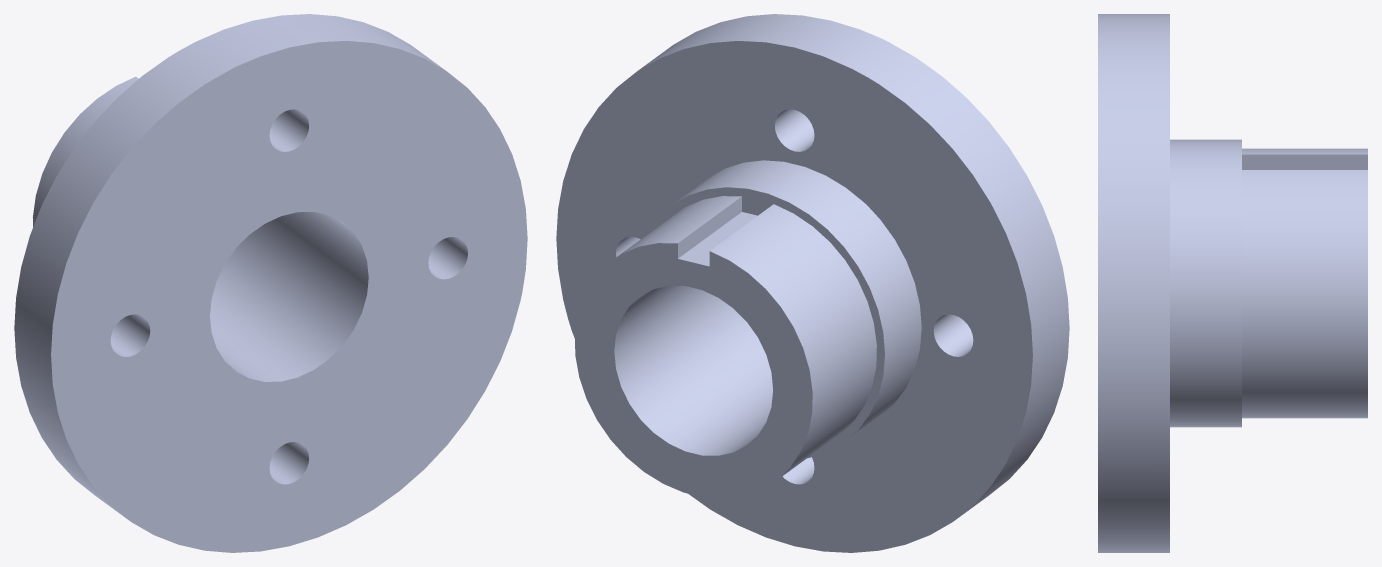
File: hub-model.glb
3 views of the same model, side by side, from view 1: azimuth 30°, elevation 25°; view 2: azimuth 150°, elevation 25°; view 3: azimuth 270°, elevation 25° (orthographic).
Visible parts, largest first — view 1: Hub NRE RevD; view 2: Hub NRE RevD; view 3: Hub NRE RevD.
Part boxes in pixels (x1,y1,x2,y2): Hub NRE RevD: (14, 14, 527, 552); Hub NRE RevD: (556, 14, 1069, 552); Hub NRE RevD: (1098, 14, 1367, 552).
Size of the model in its own units: 0.03 by 0.03 by 0.015.
